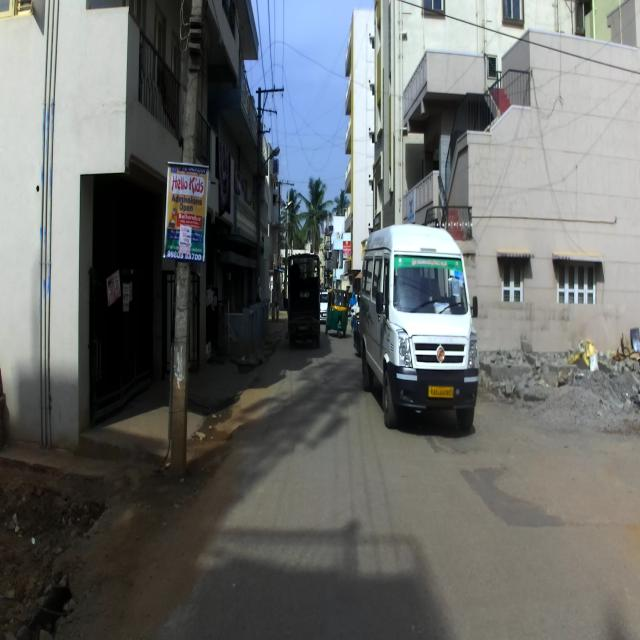bus ahead at: (360, 226, 484, 447)
electric pole ahead at: (160, 0, 212, 478)
truck ahead at: (283, 248, 322, 348)
